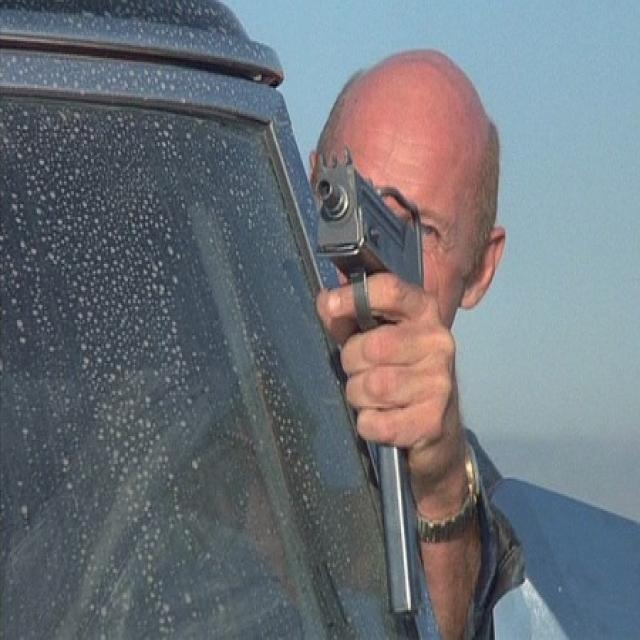rifle: (309, 137, 437, 286)
